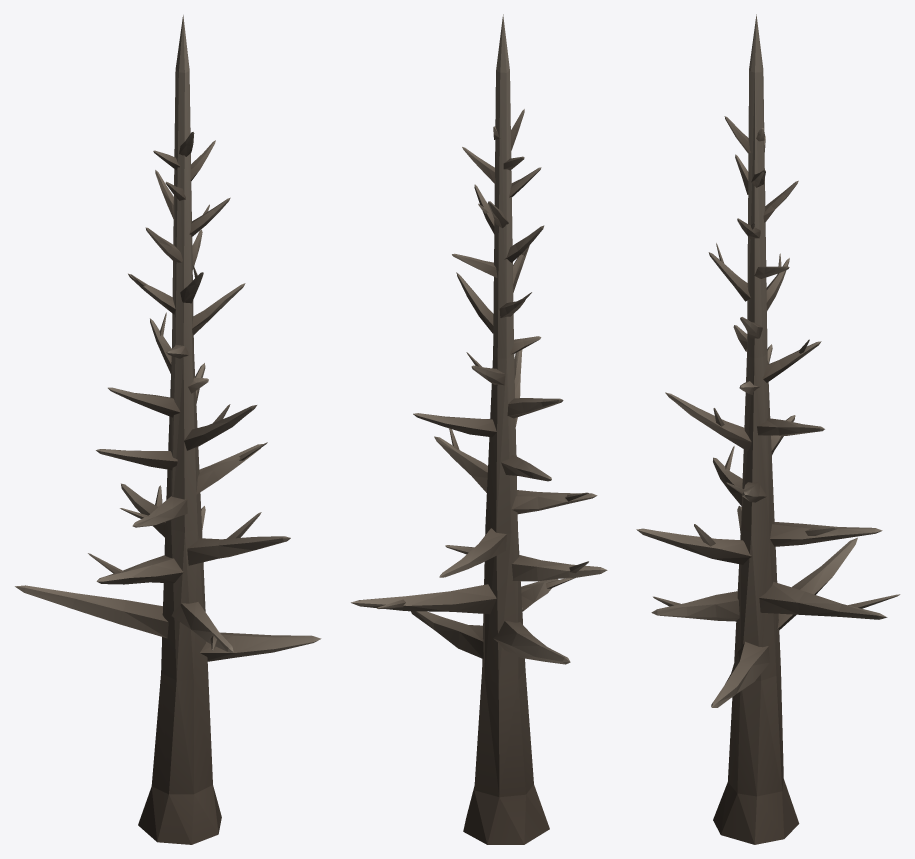
The model's file is dead_L_std_s3.glb.
3 renders of one model, left to right at view 1: azimuth 30°, elevation 25°; view 2: azimuth 150°, elevation 25°; view 3: azimuth 270°, elevation 25°, orthographic.
Visible parts, largest first — view 1: Tree; view 2: Tree; view 3: Tree.
Boxes of the visible parts, x1=… form: Tree: x1=15, y1=15, x2=321, y2=844; Tree: x1=351, y1=14, x2=607, y2=844; Tree: x1=636, y1=14, x2=900, y2=844.
Size of what is drawn, in the model's own units: 2.41 by 8 by 2.36.
